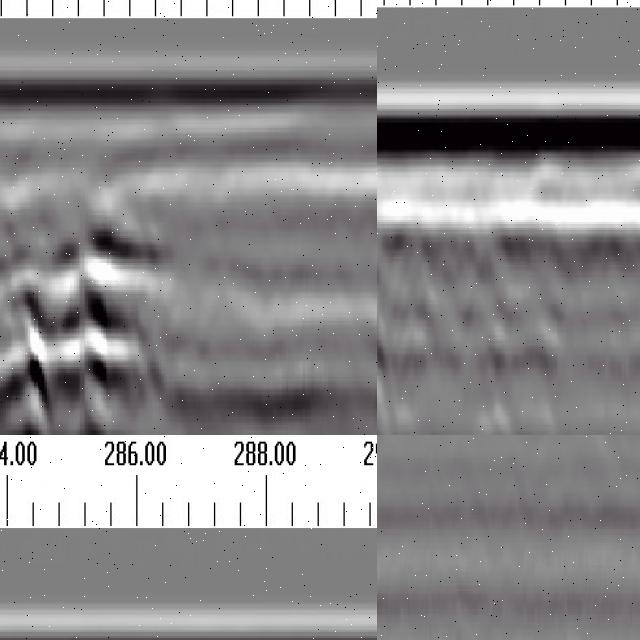loose: (1, 189, 189, 436), (378, 246, 420, 436)
